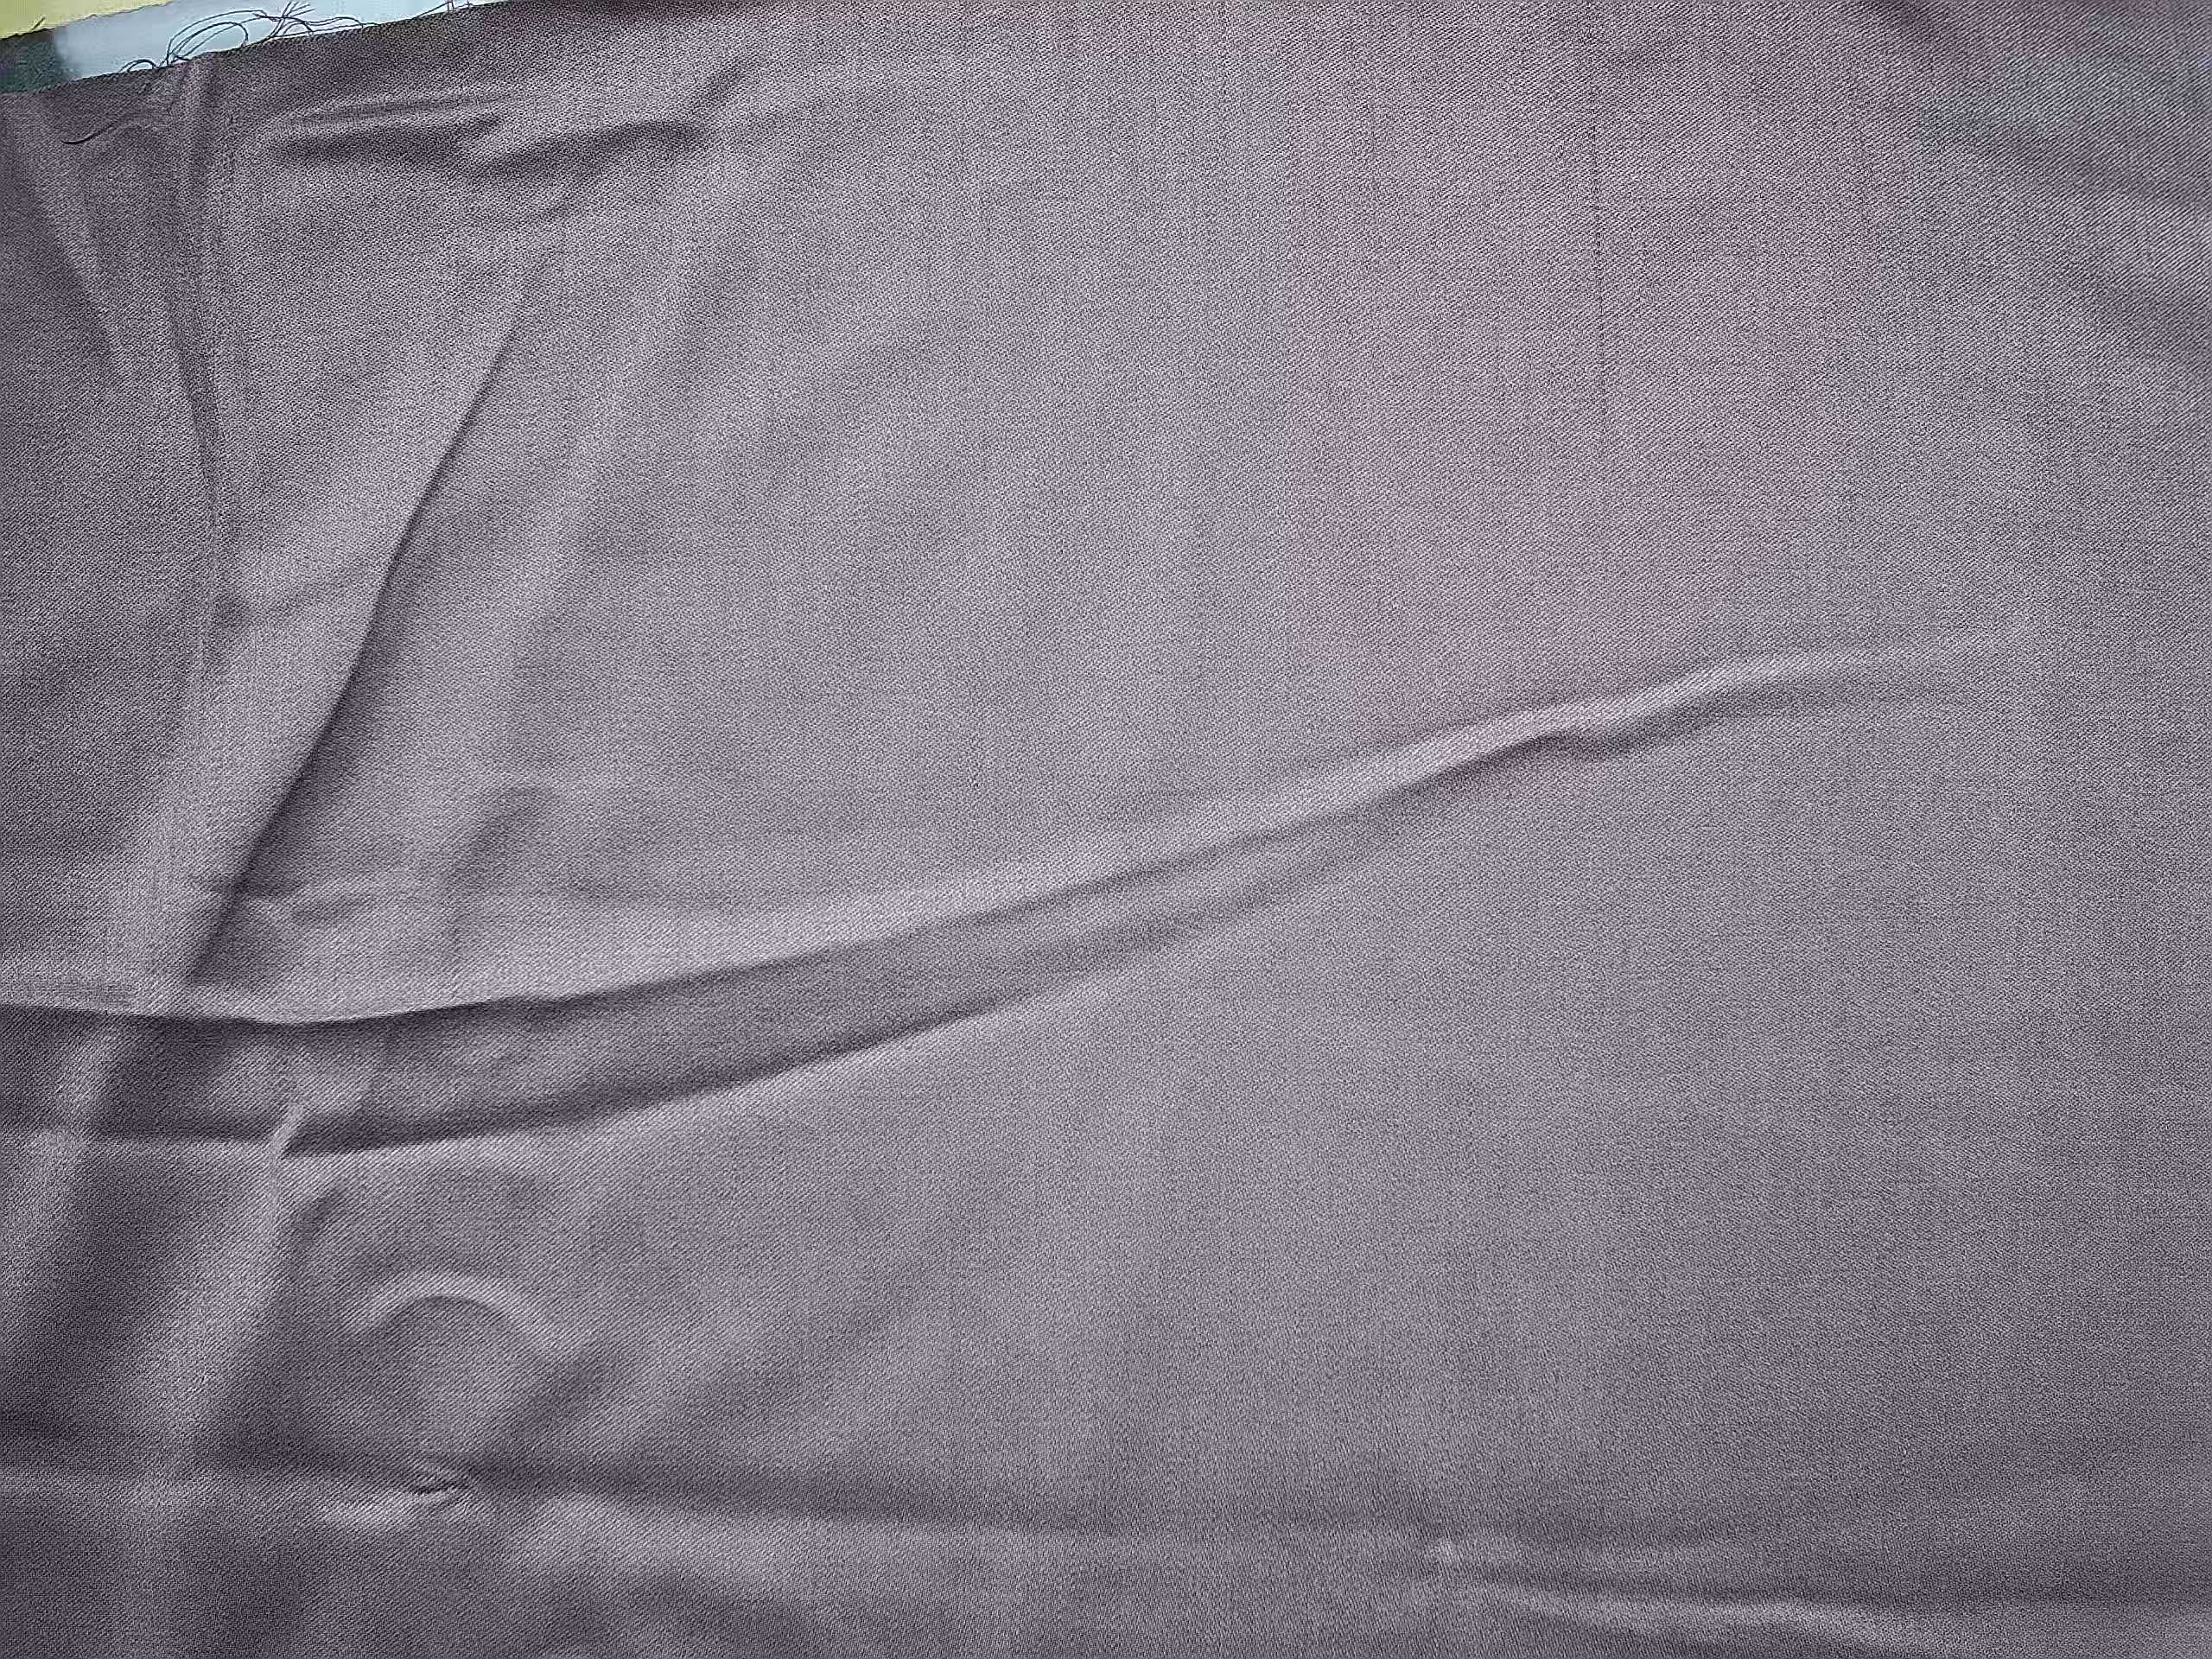hanging-warp: (1575, 10, 1622, 481)
